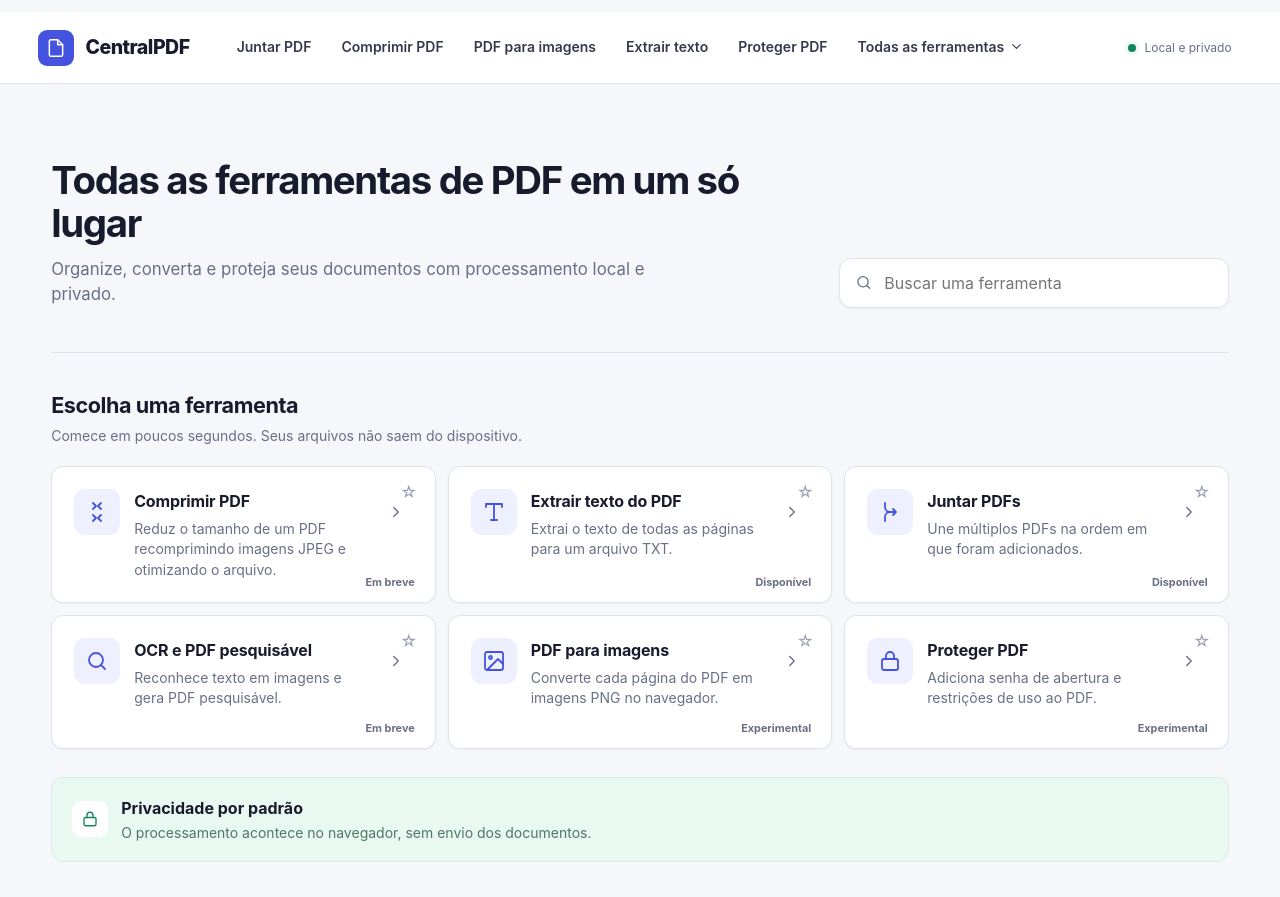
Test: App (shell 2.0) › favoritar uma ferramenta persiste e desenha a seção de favoritas
This screenshot has width=1280, height=897.
Step 1. Click the button named "Adicionar Juntar PDFs aos favoritos" → [1202, 493], box top-left (1186, 477), bottom-right (1218, 509)
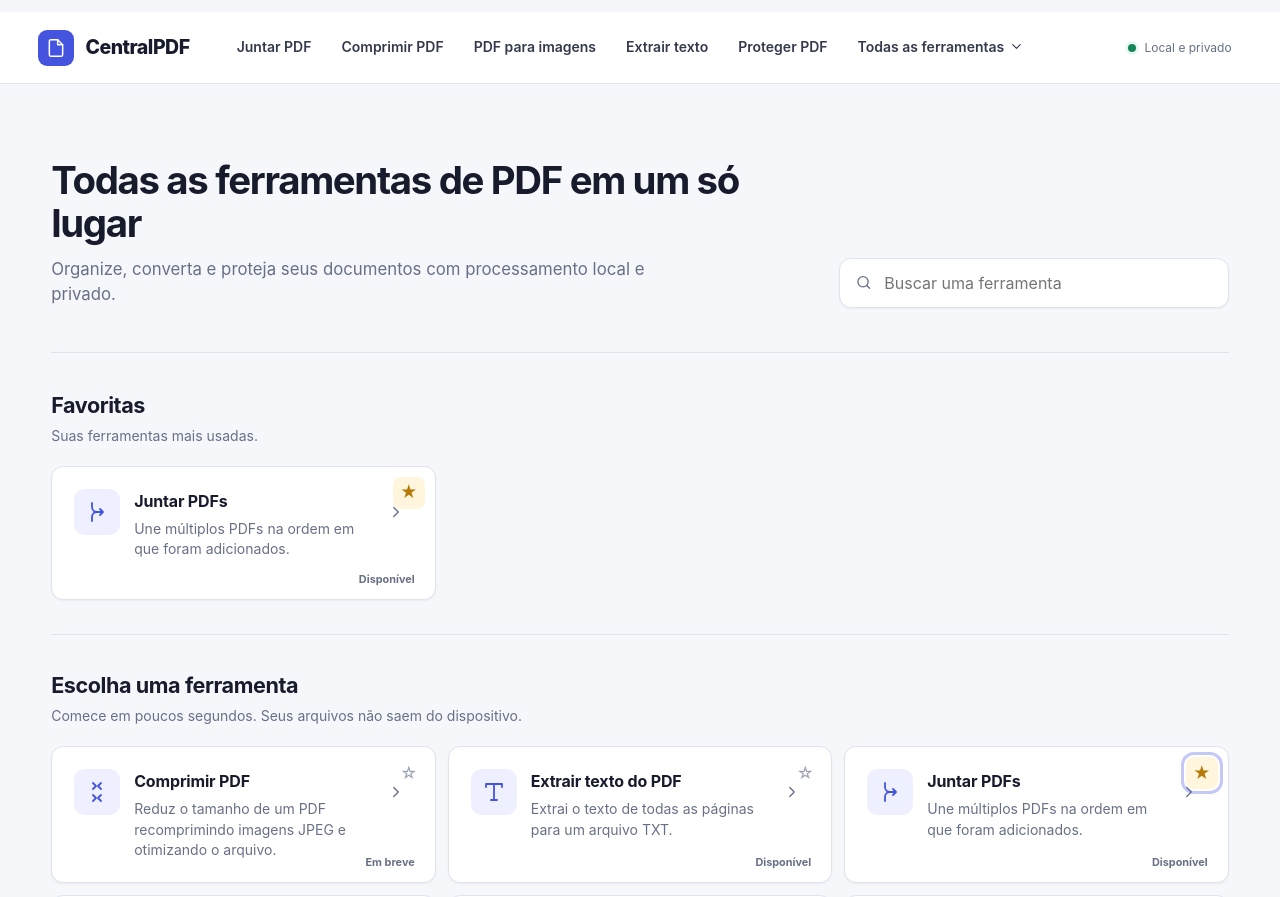
Expected: the heading "Favoritas" is shown, top-left (51, 392), bottom-right (145, 418)
Expected: the button named "Remover Juntar PDFs dos favoritos" is shown, top-left (393, 477), bottom-right (425, 509)
